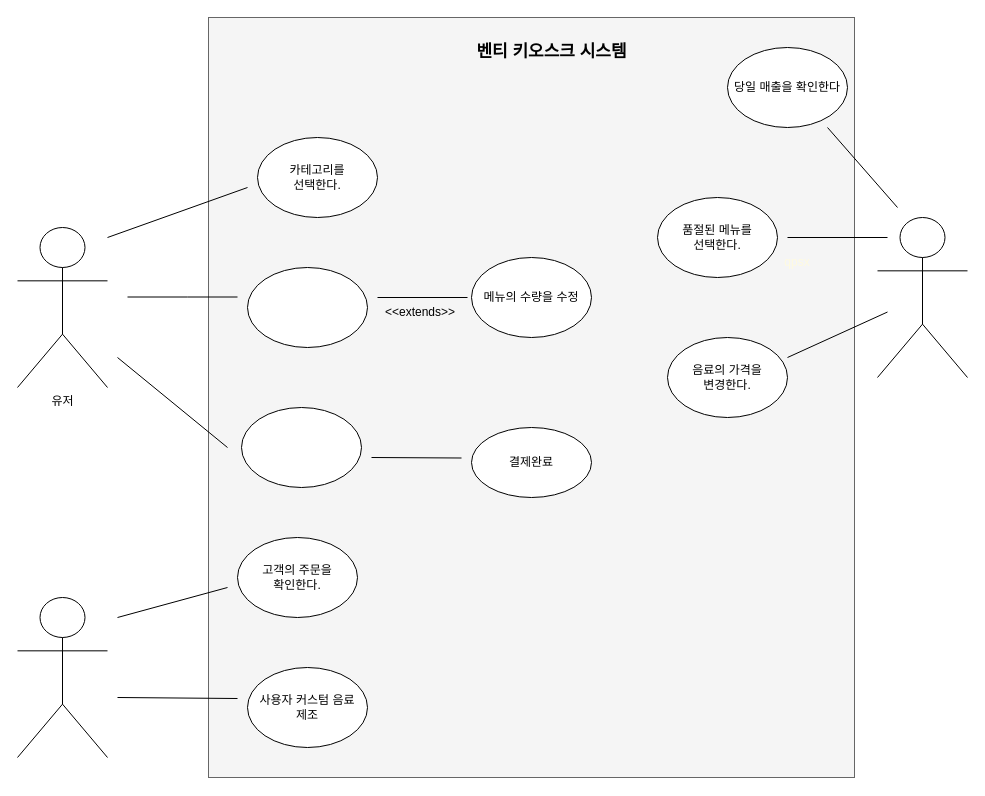
Image size: 985x796. Some labels were removed from this diagram. Each missing label, with the box of its shape:
결제 수단 선택 및 결제: (240, 406, 362, 488)
메뉴를 선택한다.: (246, 266, 368, 348)
카페 운영자: (16, 596, 108, 758)
키오스크 관리자: (876, 216, 968, 378)
